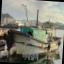fishing boat: (7, 0, 64, 63)
